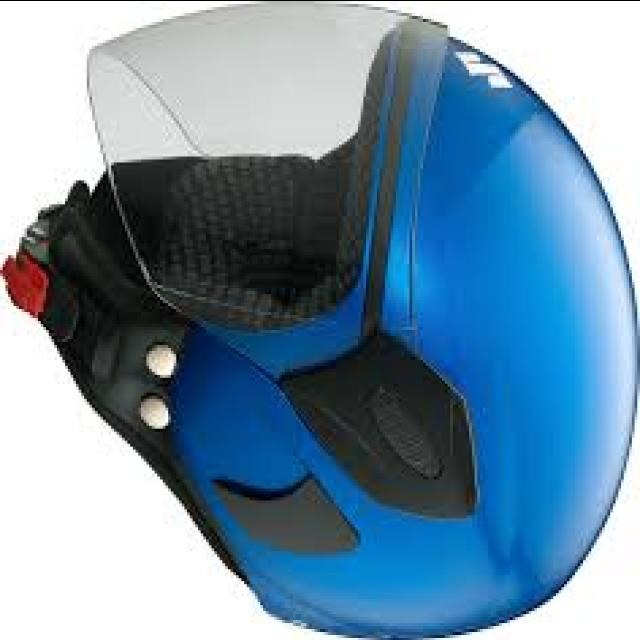Helmet: (3, 3, 639, 637)
